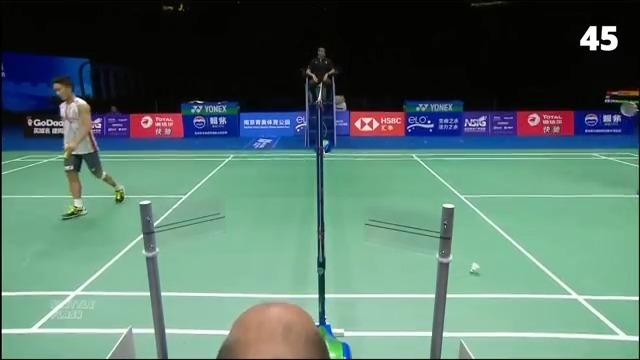Shuttlecock: (467, 260, 485, 274)
